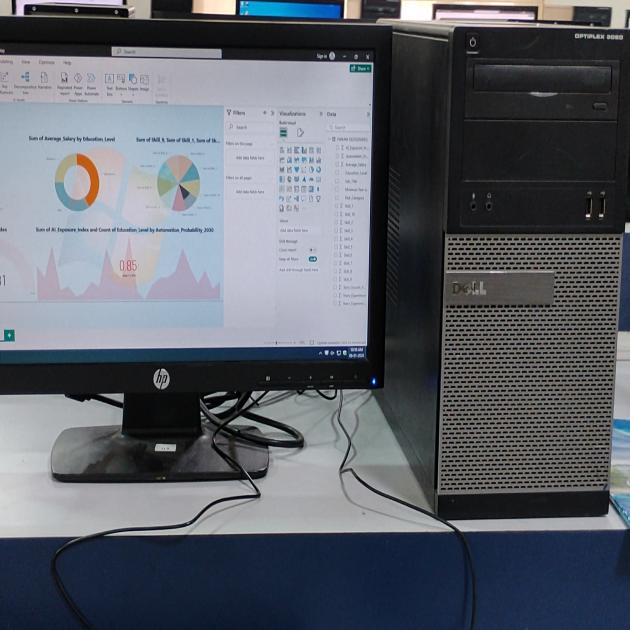computer: (0, 8, 393, 525)
cpu: (403, 13, 630, 630)
